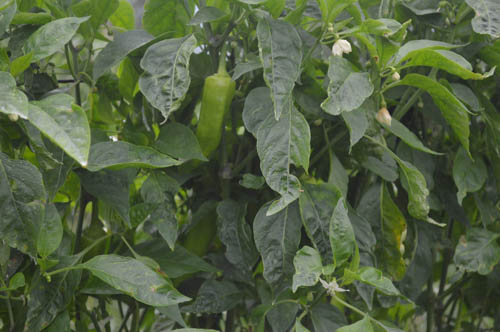ChiliPepper: (191, 74, 236, 168)
